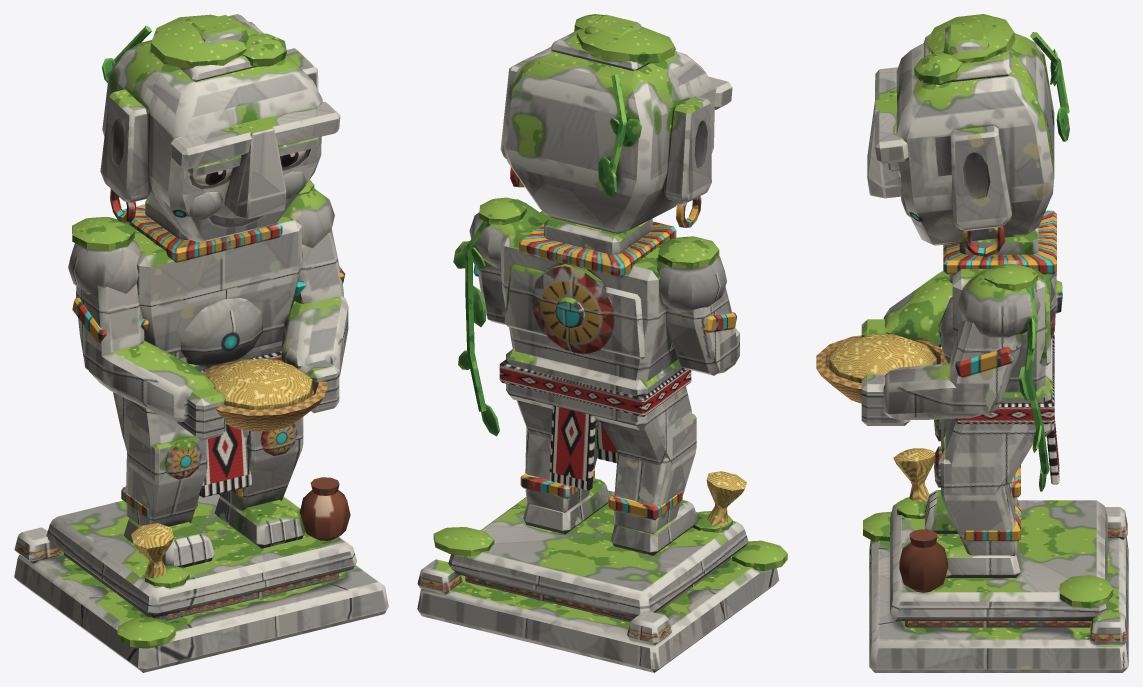
File: bulul_standing.glb
3 views of the same model, side by side, from view 1: azimuth 30°, elevation 25°; view 2: azimuth 150°, elevation 25°; view 3: azimuth 270°, elevation 25° (orthographic). The views are drawn at different scales.
Parts seen in each view (by area): view 1: bulul_standing; view 2: bulul_standing; view 3: bulul_standing.
Part boxes in pixels (x1=…): bulul_standing: x1=14, y1=14, x2=388, y2=672; bulul_standing: x1=417, y1=14, x2=787, y2=672; bulul_standing: x1=816, y1=14, x2=1128, y2=672.
Size of the model in its own units: 4.15 by 8.6 by 4.18.
Materials: 1 (1 with a texture image).
